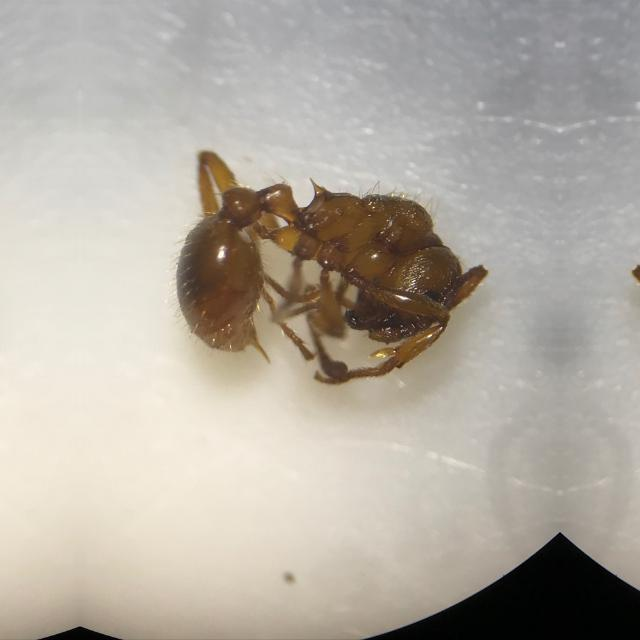Myrmica: (157, 97, 487, 406)
